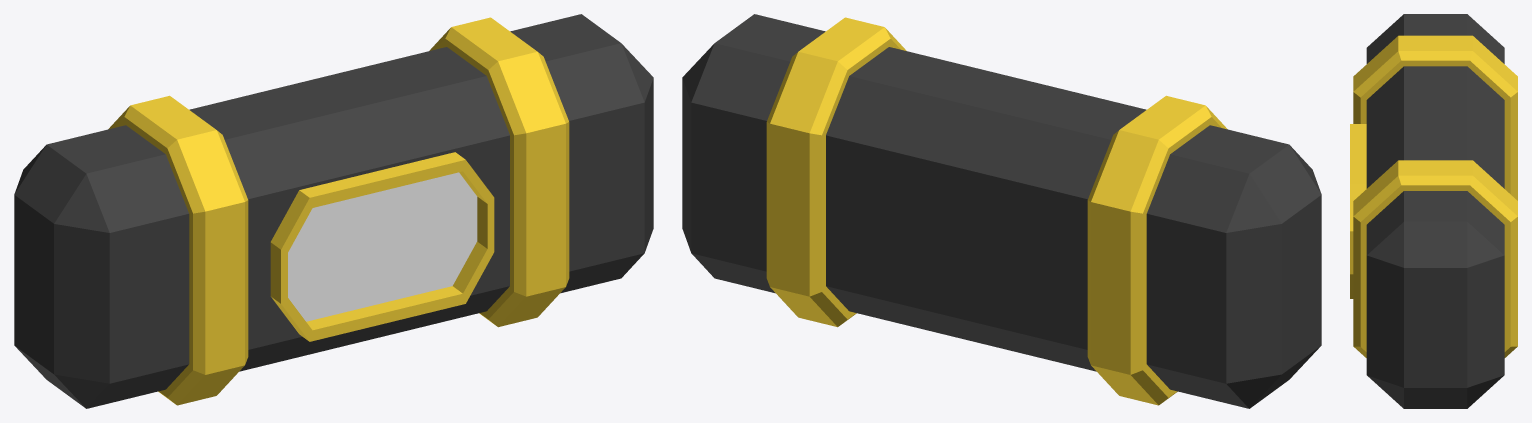
Rendered from Lamp 1.fbx.
The picture shows the model from 3 angles, left to right: view 1: azimuth 30°, elevation 25°; view 2: azimuth 150°, elevation 25°; view 3: azimuth 270°, elevation 25°; orthographic projection. The views are drawn at different scales.
Parts seen in each view (by area): view 1: Lam 2.009; view 2: Lam 2.009; view 3: Lam 2.009.
Part boxes in pixels (box(x1,y1,x2,y2)): Lam 2.009: box(14, 14, 653, 408); Lam 2.009: box(682, 14, 1321, 408); Lam 2.009: box(1350, 14, 1517, 408).
Size of the model in its own units: 1.05 by 0.446 by 0.3208.
